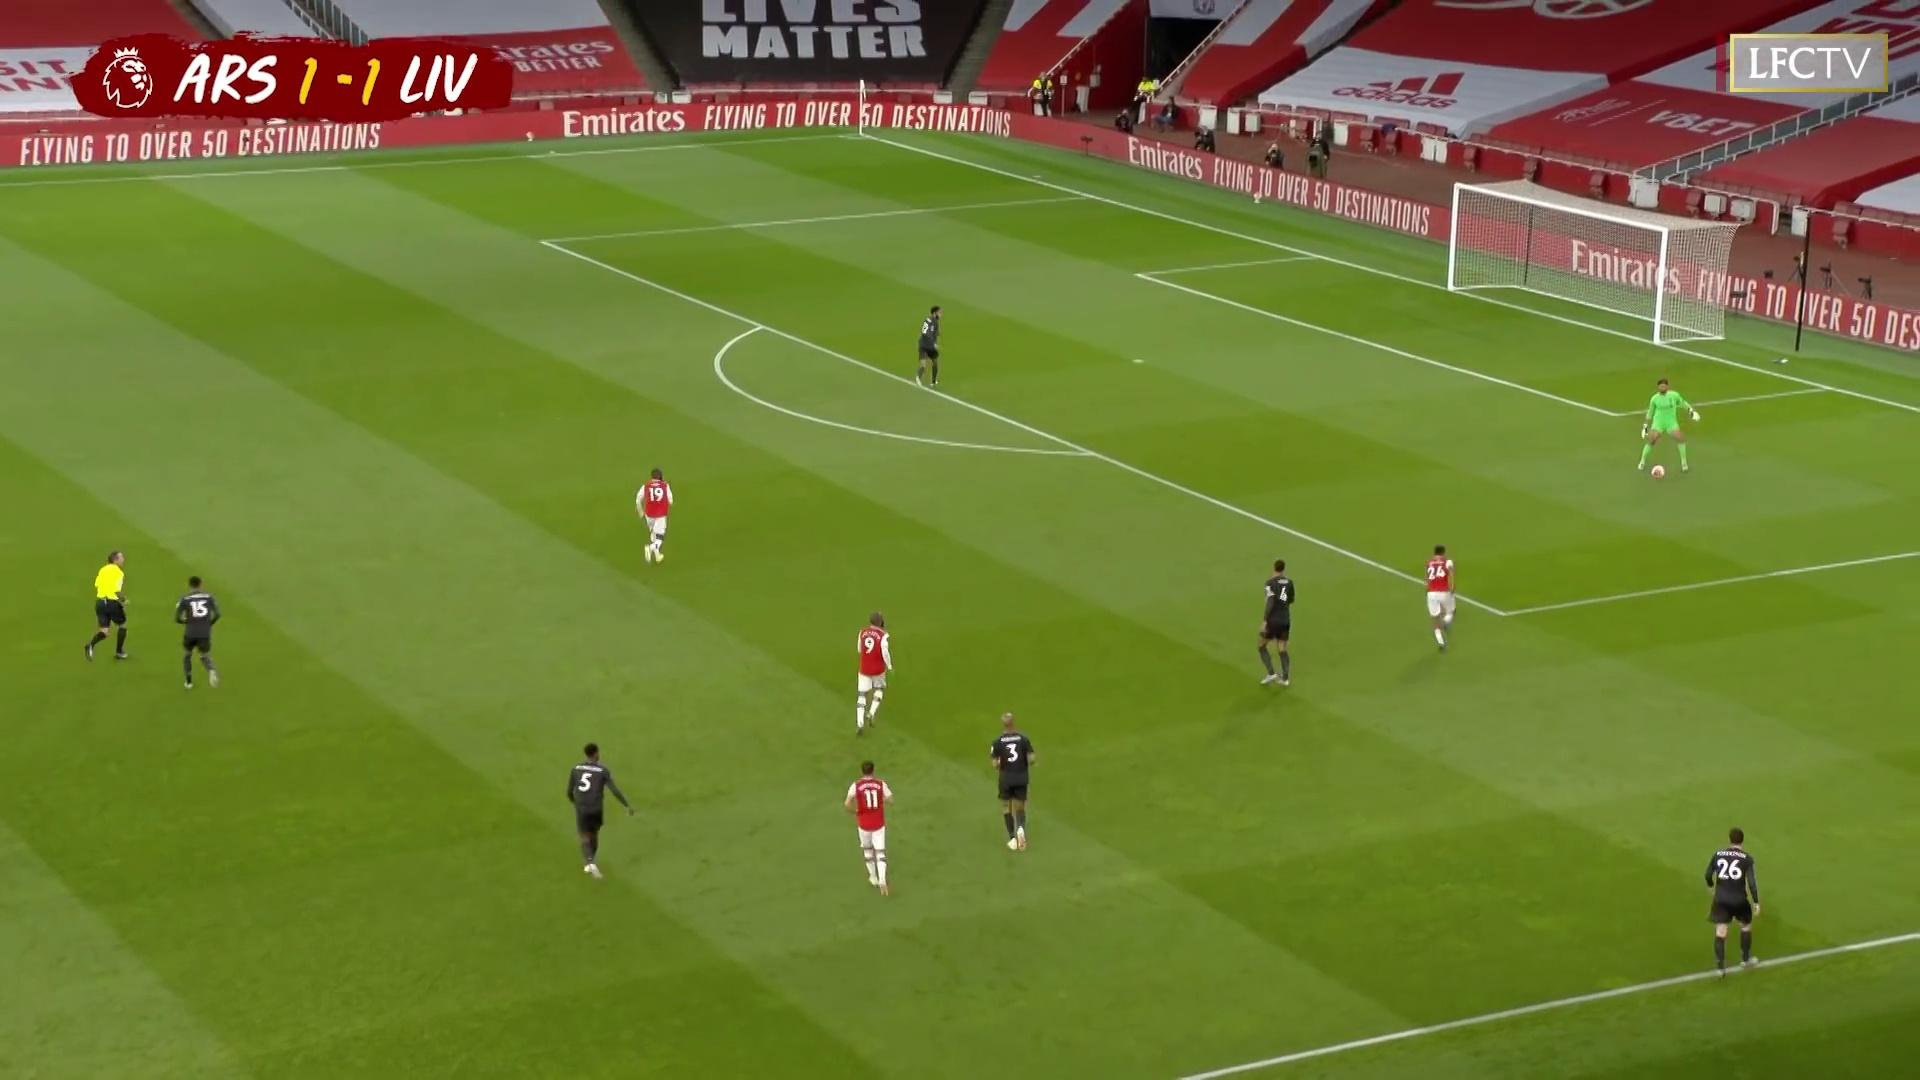ball: (1650, 463, 1668, 481)
